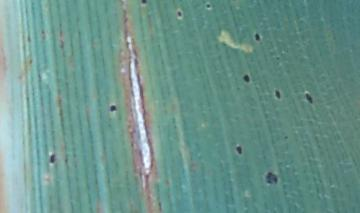tarspot: (263, 170, 279, 186), (303, 91, 314, 105), (47, 152, 57, 166), (241, 72, 251, 84), (252, 31, 262, 43), (273, 87, 281, 100), (57, 37, 65, 50), (234, 144, 243, 155), (108, 103, 117, 114), (175, 10, 183, 19), (25, 32, 31, 43), (204, 2, 212, 10), (26, 58, 34, 65), (274, 55, 281, 62), (39, 28, 46, 35), (139, 1, 148, 6), (283, 134, 289, 141)
